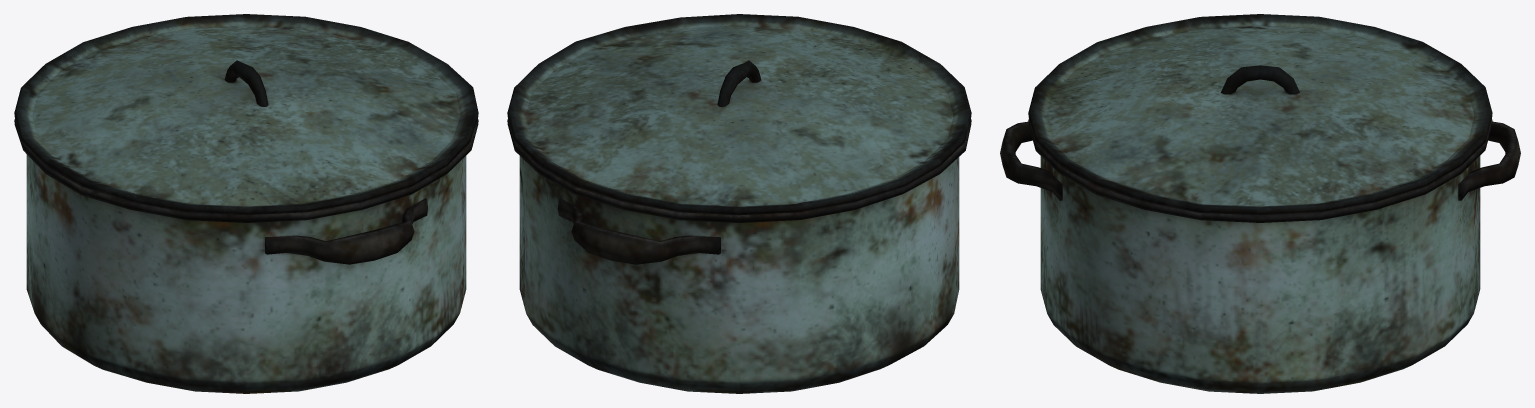
The model's file is UDKS_01.fbx.
3 renders of one model, left to right at view 1: azimuth 30°, elevation 25°; view 2: azimuth 150°, elevation 25°; view 3: azimuth 270°, elevation 25°, orthographic.
Visible parts, largest first — view 1: UDKS_01, Cap_01; view 2: UDKS_01, Cap_01; view 3: UDKS_01, Cap_01.
Part boxes in pixels (<box>): UDKS_01: <box>14,118,478,393</box>; Cap_01: <box>14,14,478,215</box>; UDKS_01: <box>507,119,971,393</box>; Cap_01: <box>507,14,971,215</box>; UDKS_01: <box>1000,118,1520,393</box>; Cap_01: <box>1028,14,1492,215</box>.
Size of the model in its own units: 33.85 by 19.64 by 37.98.
Materials: 1 (1 with a texture image).
